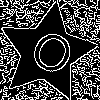O: (22, 27, 78, 86)
